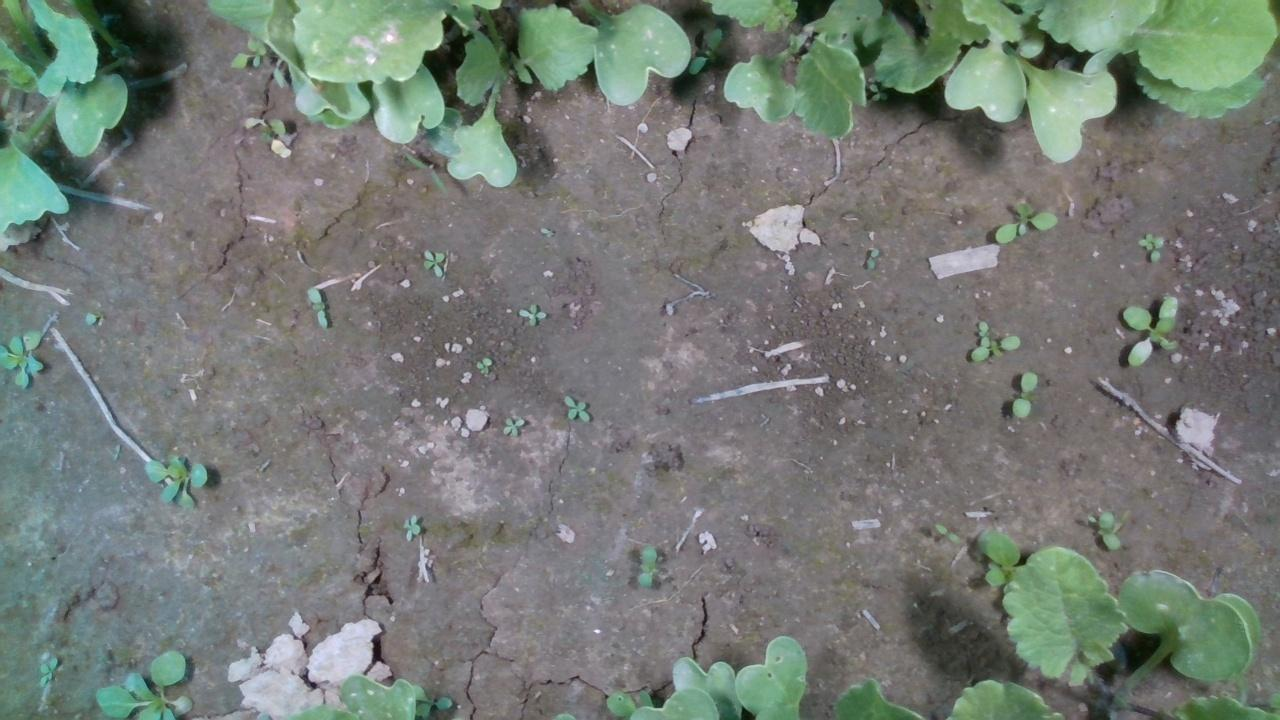weed: (992, 199, 1058, 243), (1088, 507, 1122, 551), (1010, 368, 1037, 420), (302, 286, 330, 330), (633, 544, 659, 590), (562, 394, 592, 422), (516, 300, 548, 326), (421, 249, 447, 277), (929, 521, 960, 544), (400, 511, 422, 542), (36, 657, 57, 687), (502, 415, 525, 436)
